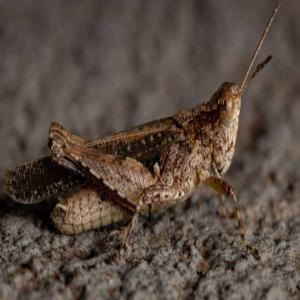locust: (15, 78, 266, 223)
